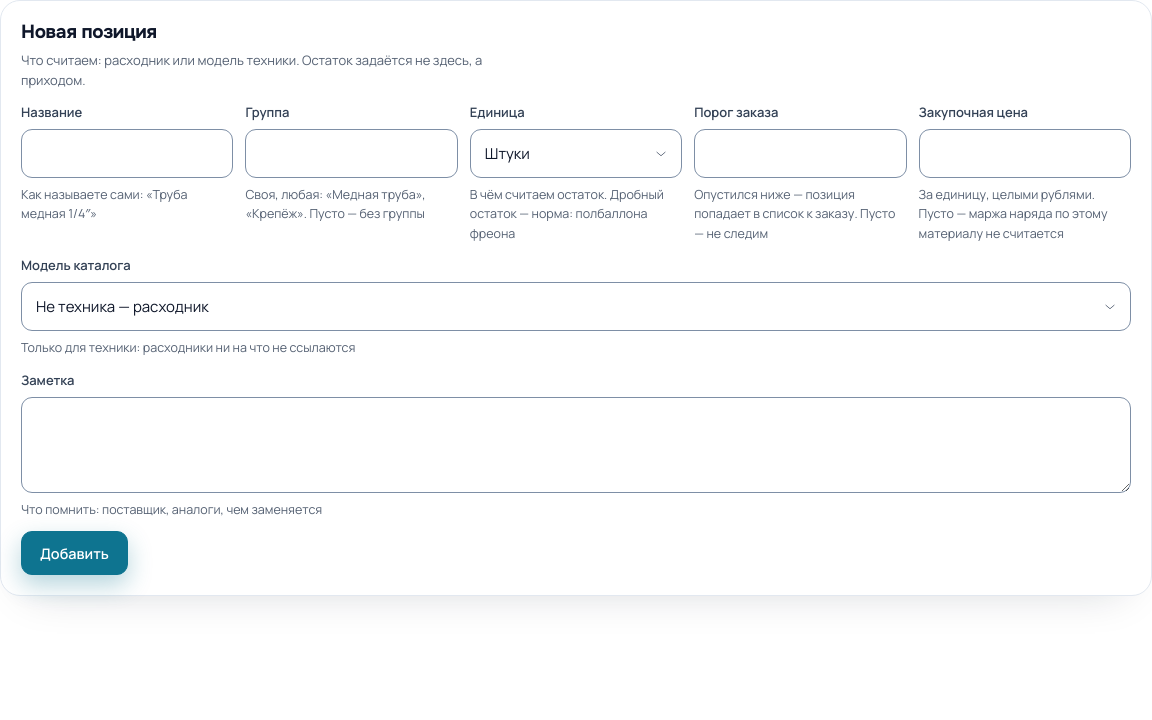
Scenario: Позиция справочника › заводит позицию и очищает форму: следующую вводят сразу
The image size is (1152, 720).
In the field labelled "Название": (127, 154) [21, 129, 233, 178], type "Труба медная 1/4″"
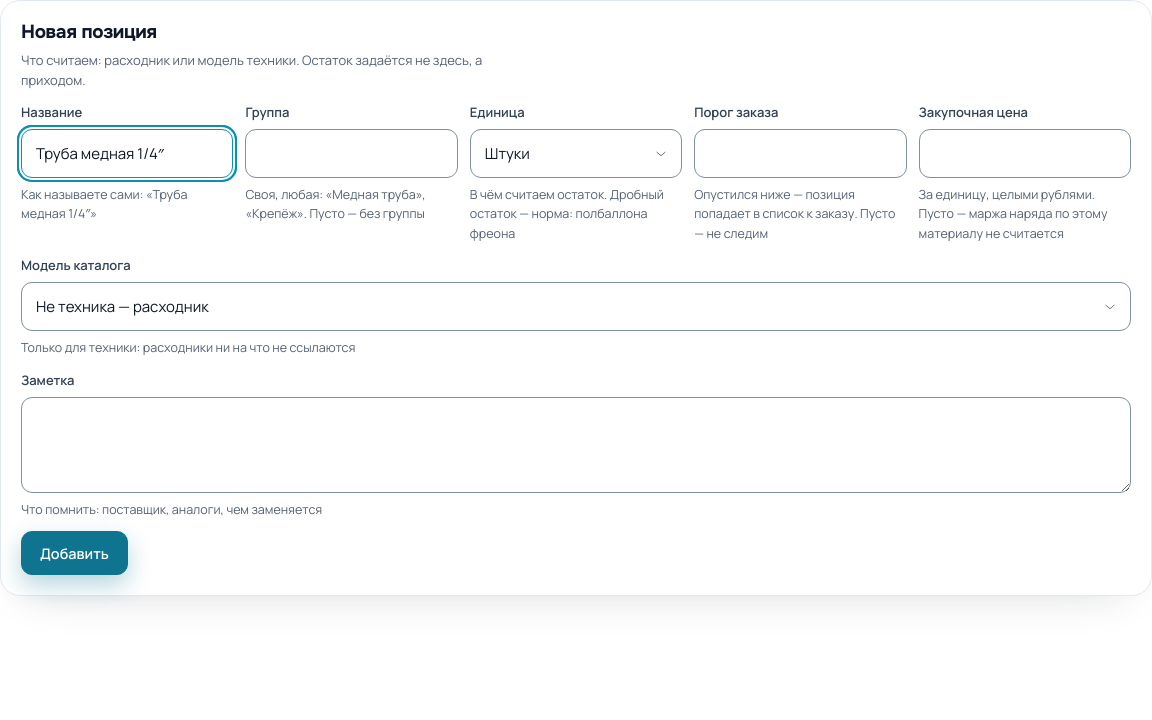
In the field labelled "Группа": (352, 154) [245, 129, 458, 178], type "Медная труба"
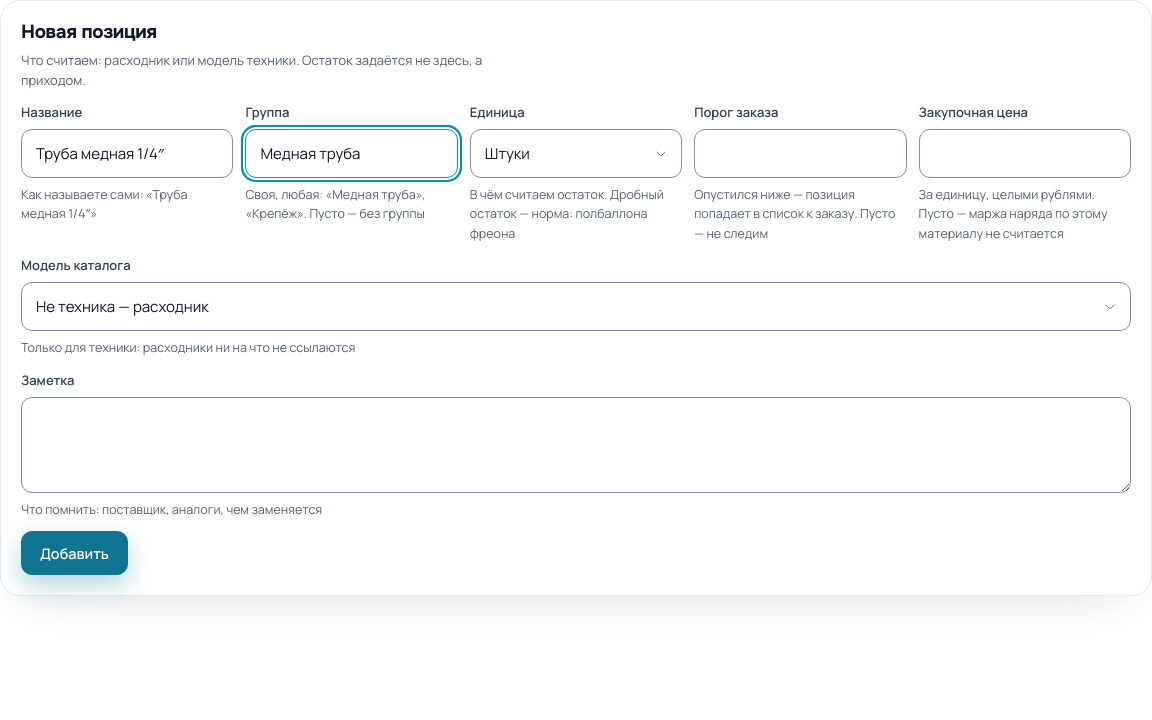
Select "Метры" in the dropdown labelled "Единица": (576, 154) [470, 129, 682, 178]
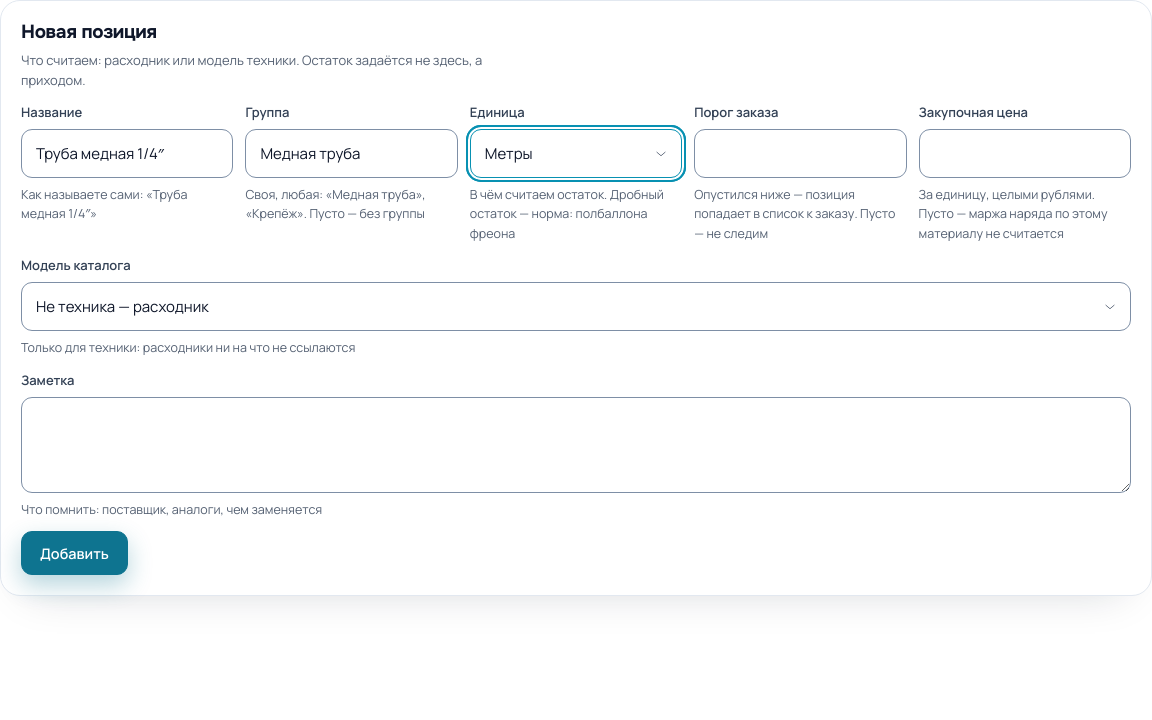
In the field labelled "Порог заказа": (800, 154) [694, 129, 907, 178], type "30"
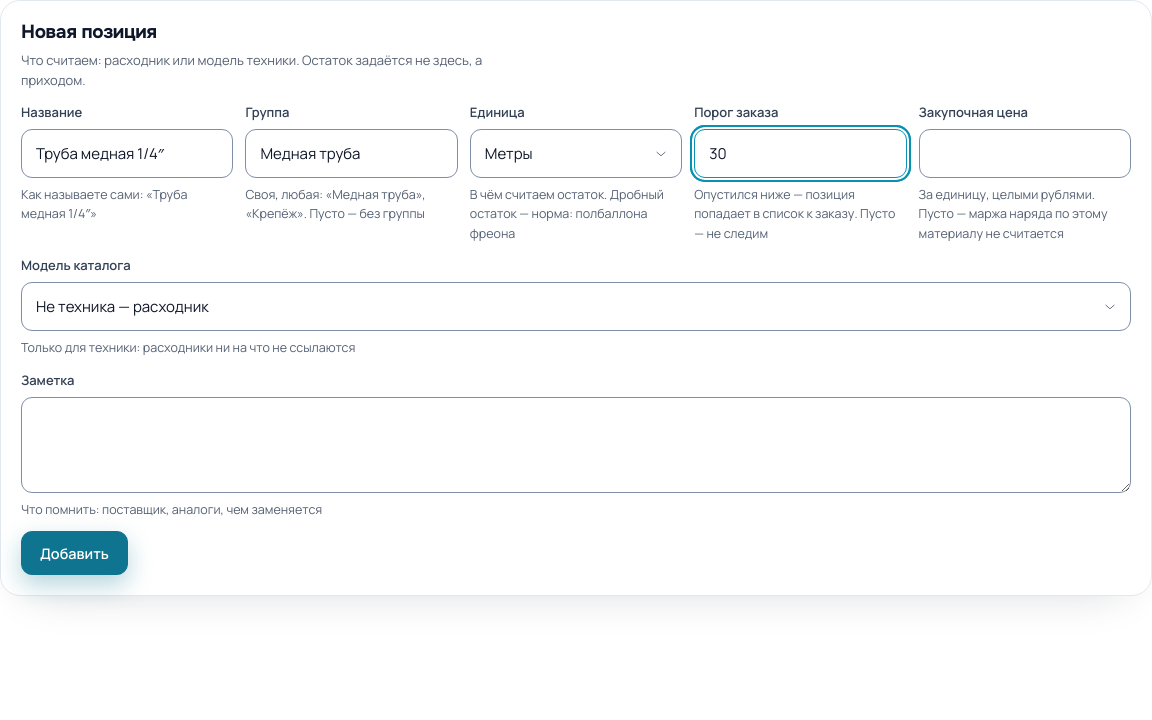
Click the button "Добавить": (74, 553) [21, 531, 128, 575]
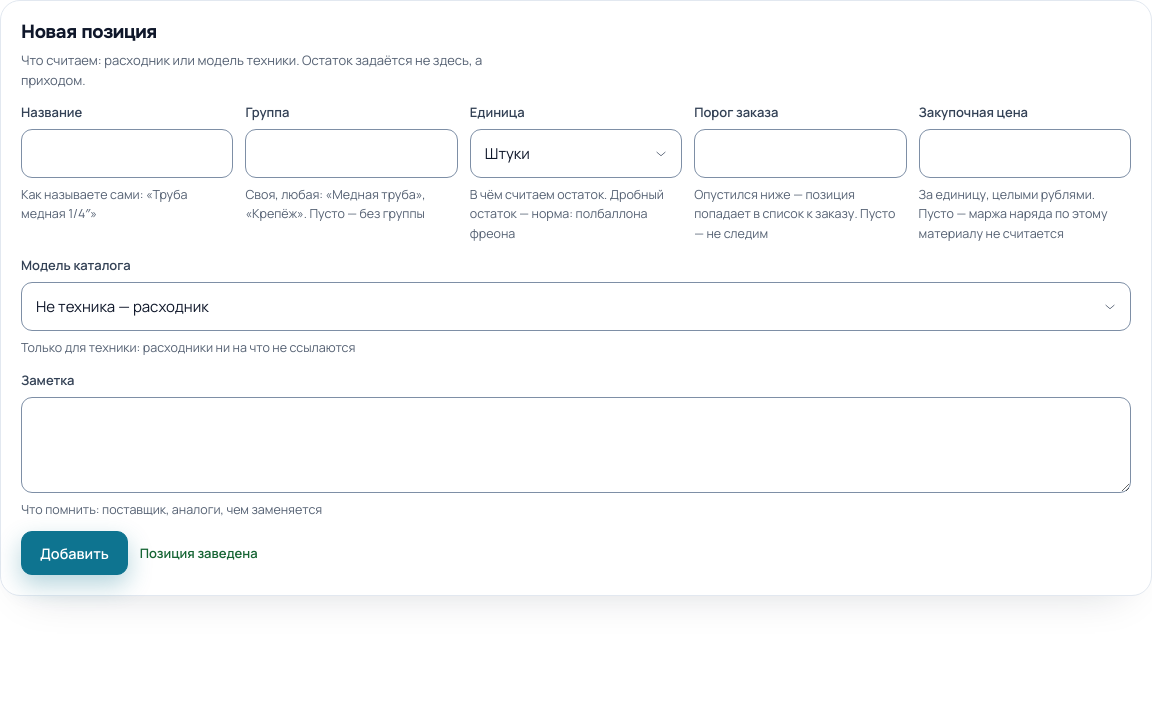
Result: the text "Позиция заведена" is shown at [140, 543, 258, 563]
Result: the field labelled "Название" is empty at [21, 129, 233, 178]
